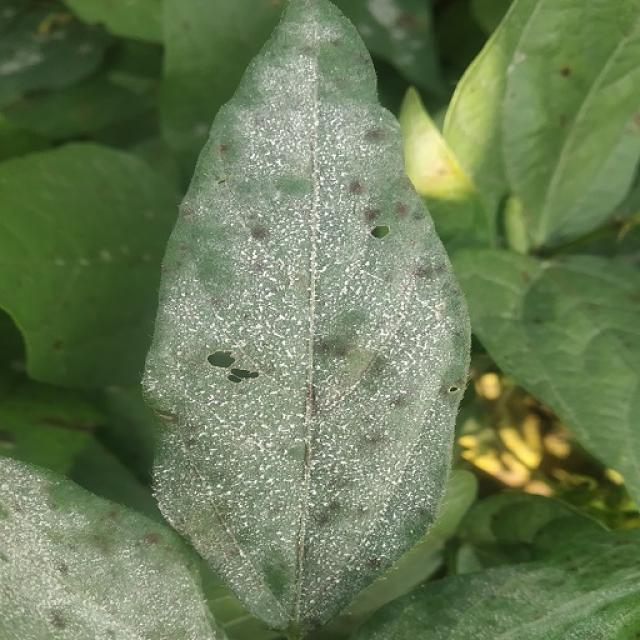Blackgram: (142, 2, 469, 631)
Powdery_Mildew: (182, 275, 309, 530), (206, 141, 325, 352), (319, 317, 441, 507), (17, 519, 193, 638), (298, 130, 387, 332), (206, 422, 296, 547), (236, 84, 320, 189), (335, 428, 412, 528), (1, 476, 71, 567), (357, 263, 427, 349), (239, 286, 300, 368), (405, 393, 452, 481), (257, 49, 327, 106), (150, 439, 195, 521), (238, 268, 288, 340), (285, 11, 355, 57), (250, 260, 270, 277), (99, 249, 113, 263), (76, 256, 92, 267), (308, 597, 316, 606)
